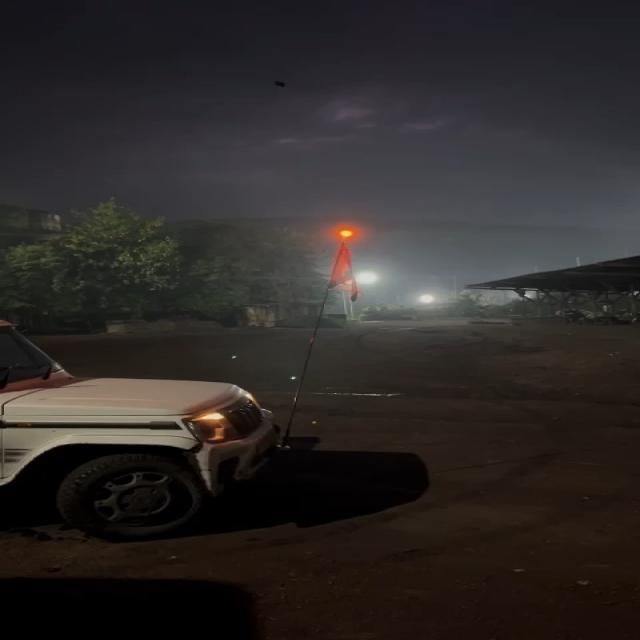light_vehicle: (0, 325, 283, 540)
